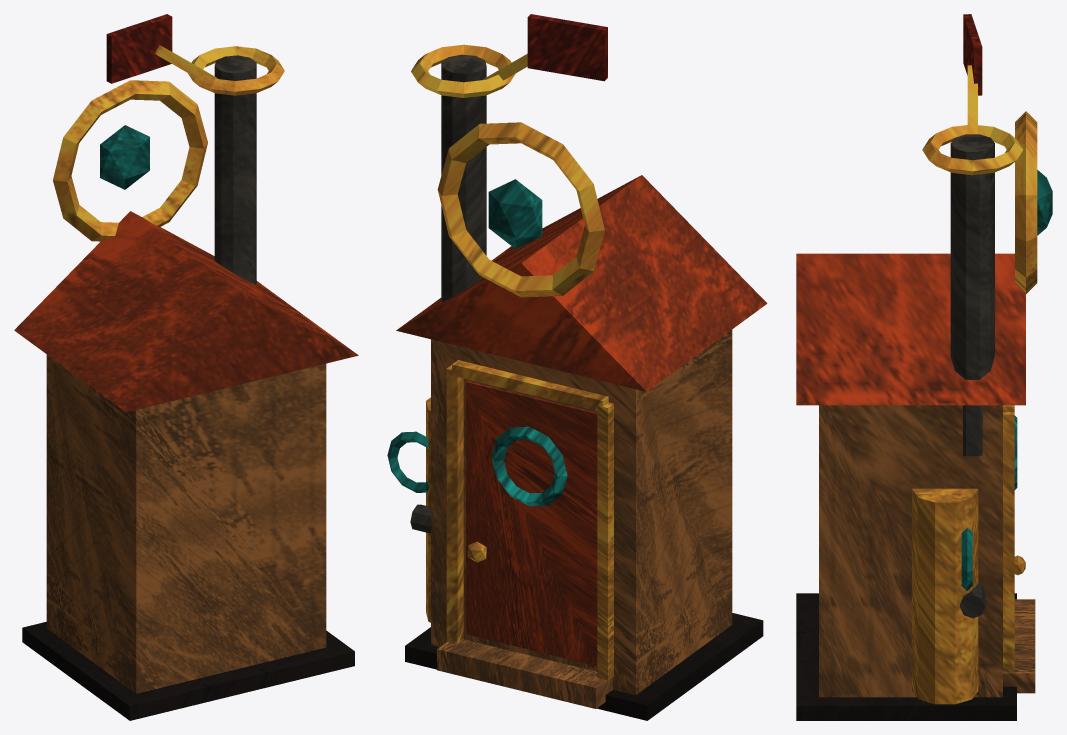
The model's file is outhouse-geyser.glb.
3 renders of one model, left to right at view 1: azimuth 30°, elevation 25°; view 2: azimuth 150°, elevation 25°; view 3: azimuth 270°, elevation 25°, orthographic. The views are drawn at different scales.
Visible parts, largest first — view 1: outhouse-geyser; view 2: outhouse-geyser; view 3: outhouse-geyser.
Boxes of the visible parts, <box> form: outhouse-geyser: <box>14,14,358,720</box>; outhouse-geyser: <box>387,14,767,720</box>; outhouse-geyser: <box>796,14,1052,720</box>.
Size of the model in its own units: 3.47 by 7.5 by 2.79.
Materials: 1 (1 with a texture image).
